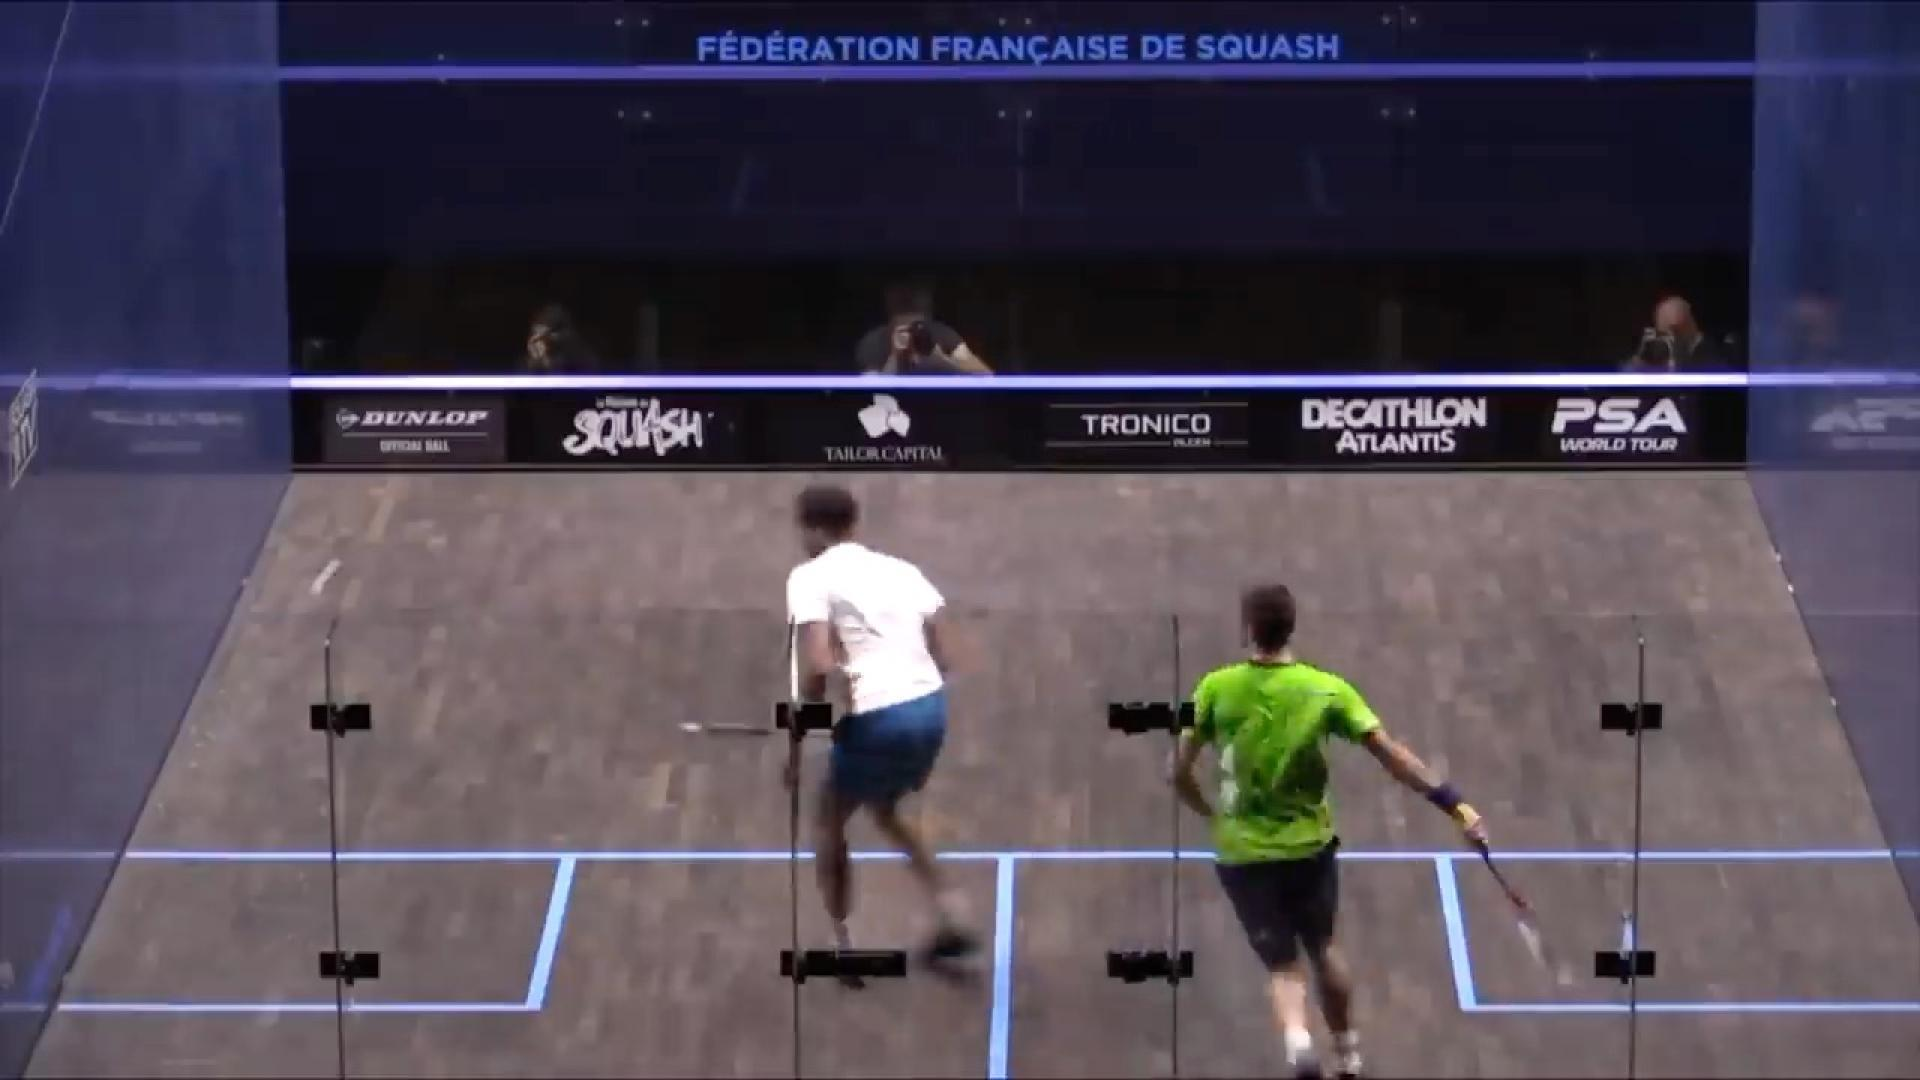Squash-Ball: (305, 560, 338, 593)
